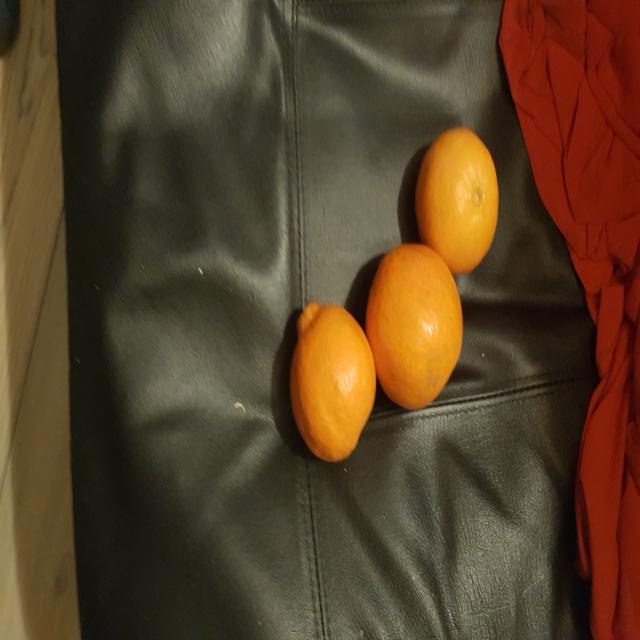Orange: (365, 244, 463, 411), (288, 302, 378, 465), (414, 127, 500, 277)
